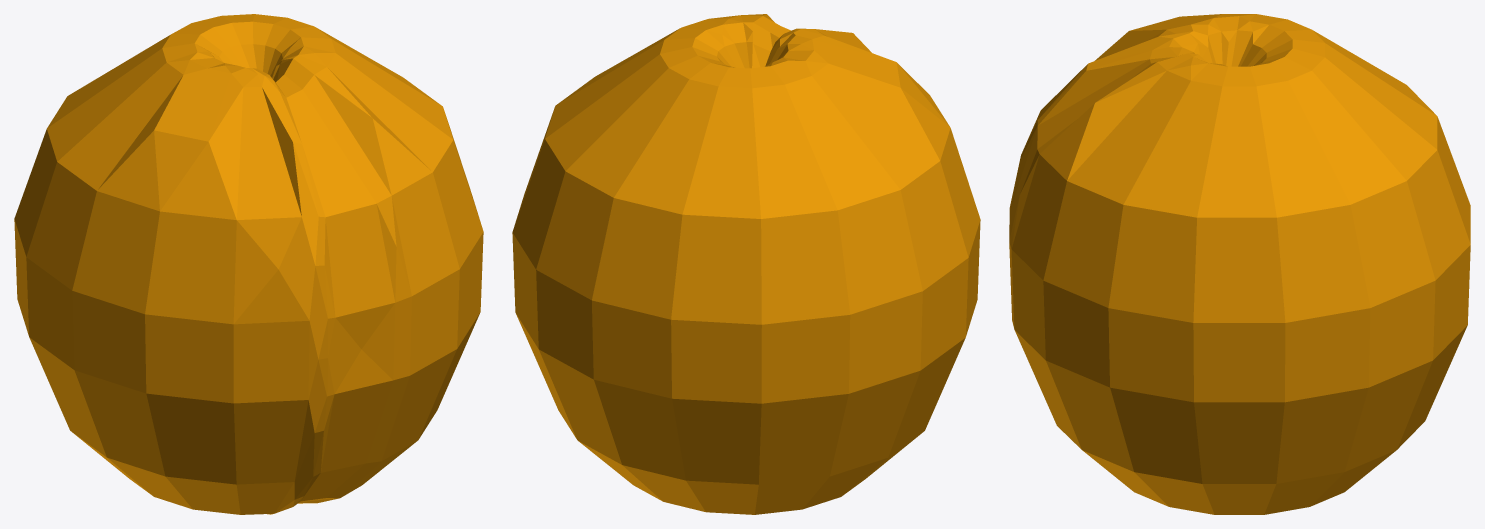
Rendered from ApricotMesh.fbx.
3 views of the same model, side by side, from view 1: azimuth 30°, elevation 25°; view 2: azimuth 150°, elevation 25°; view 3: azimuth 270°, elevation 25° (orthographic).
Parts seen in each view (by area): view 1: Apricot; view 2: Apricot; view 3: Apricot.
Boxes of the visible parts, box(x1,y1,x2,y2) form: Apricot: box(14, 14, 483, 514); Apricot: box(512, 14, 980, 514); Apricot: box(1009, 14, 1470, 514).
Size of the model in its own units: 326 by 350 by 326.
